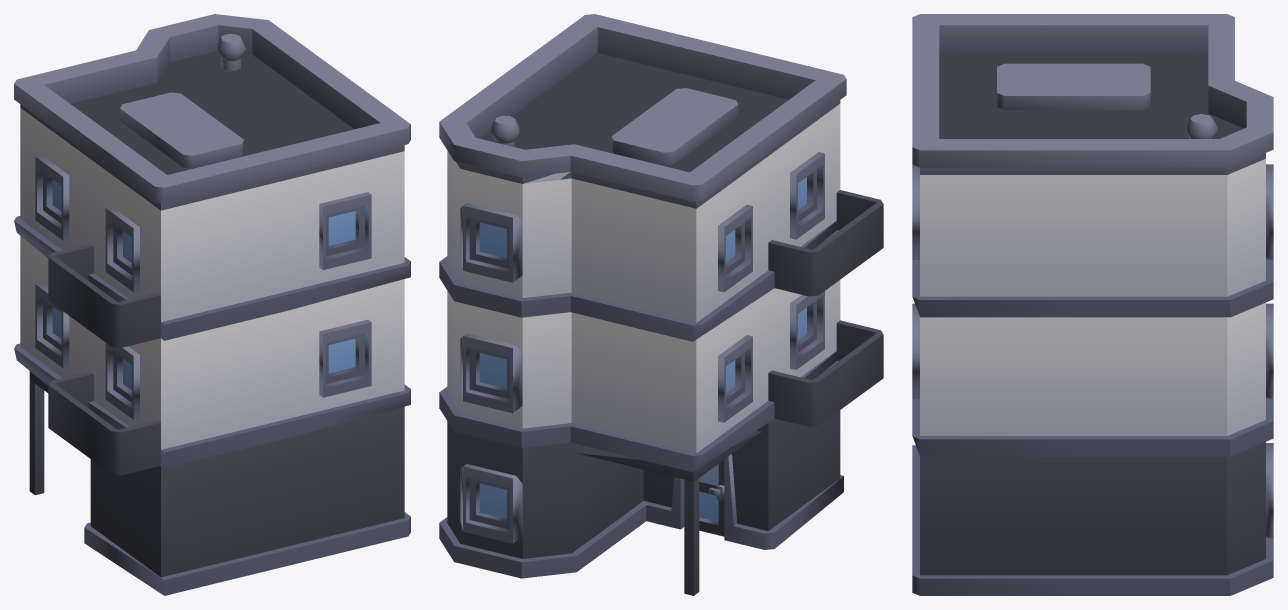
File: townhouse-b.glb
3 renders of one model, left to right at view 1: azimuth 30°, elevation 25°; view 2: azimuth 150°, elevation 25°; view 3: azimuth 270°, elevation 25°, orthographic. The views are drawn at different scales.
Visible parts, largest first — view 1: building-b; view 2: building-b; view 3: building-b.
Boxes of the visible parts, left/top/right/bottom form: building-b: left=14, top=14, right=410, bottom=595; building-b: left=439, top=14, right=883, bottom=595; building-b: left=912, top=14, right=1273, bottom=595.
Size of the model in its own units: 0.9701 by 1.29 by 0.94.
1 material, 1 textured.
